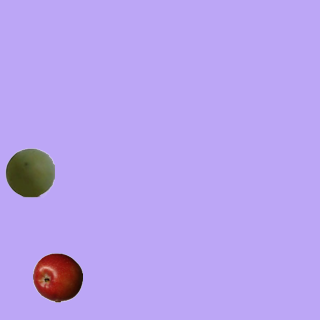Apple Braeburn: (32, 252, 82, 302)
Grape White 4: (4, 147, 54, 197)
